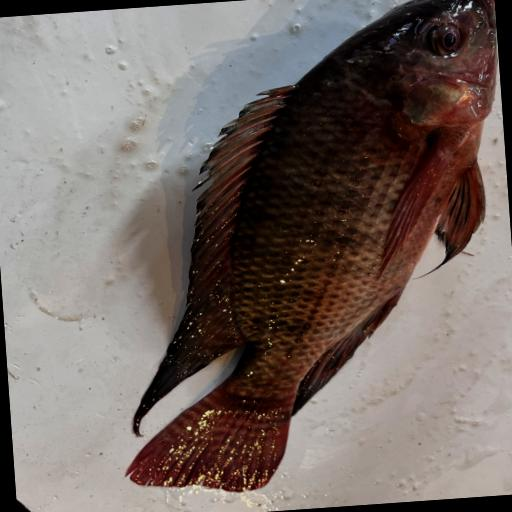Tilapia: (91, 0, 512, 498)
